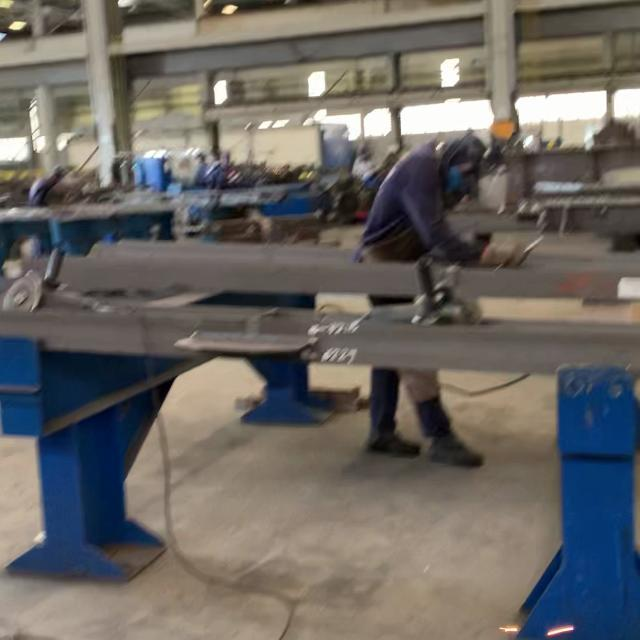eye-glass: (457, 164, 510, 214)
glove: (458, 134, 492, 164)
mask: (360, 132, 534, 470)
safety-shoe: (424, 431, 486, 467), (363, 427, 422, 460)
